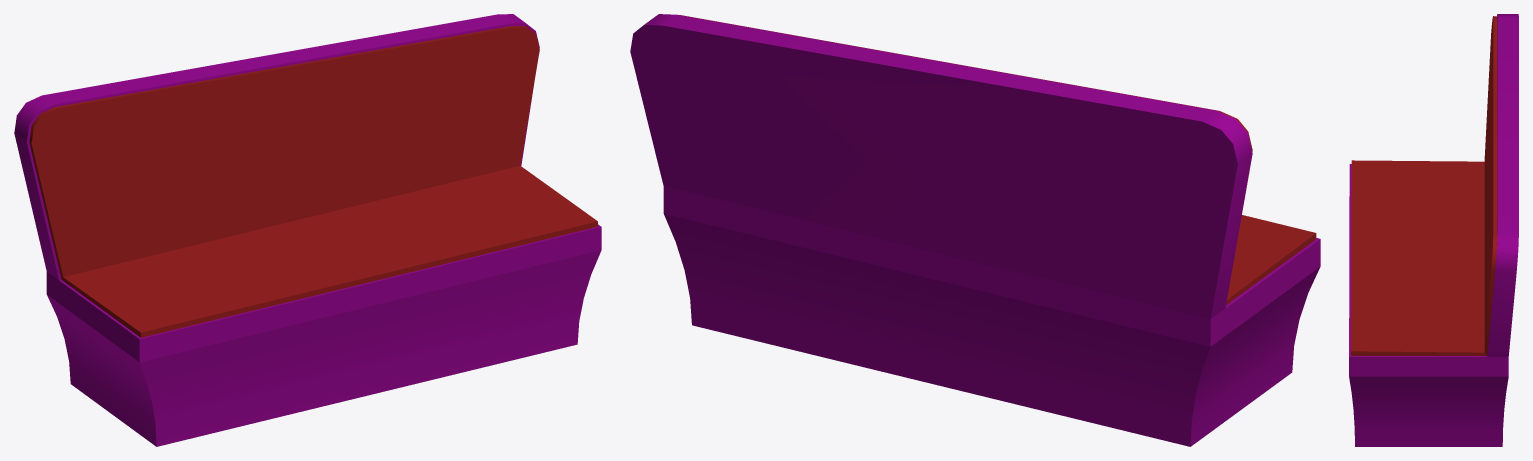
The model's file is Sofa2.FBX.
3 renders of one model, left to right at view 1: azimuth 30°, elevation 25°; view 2: azimuth 150°, elevation 25°; view 3: azimuth 270°, elevation 25°, orthographic. The views are drawn at different scales.
Parts seen in each view (by area): view 1: PRP_Sofa_1; view 2: PRP_Sofa_1; view 3: PRP_Sofa_1.
Part boxes in pixels (x1,y1,x2,y2): PRP_Sofa_1: [14, 14, 601, 446]; PRP_Sofa_1: [630, 14, 1320, 446]; PRP_Sofa_1: [1349, 14, 1518, 446].
Size of the model in its own units: 179 by 95.38 by 59.89.
